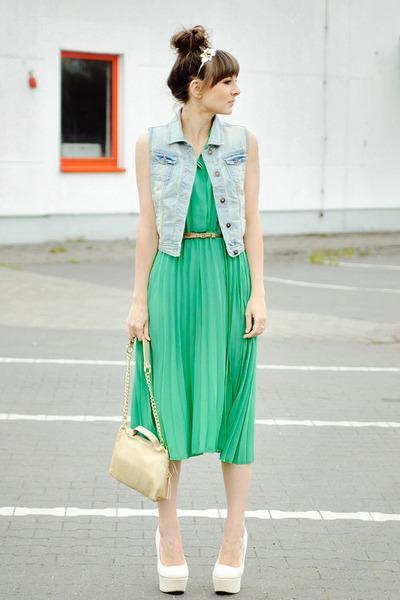bag: (106, 339, 167, 491)
dress: (132, 161, 256, 463)
shirt: (156, 124, 245, 256)
shoe: (158, 552, 243, 592)
